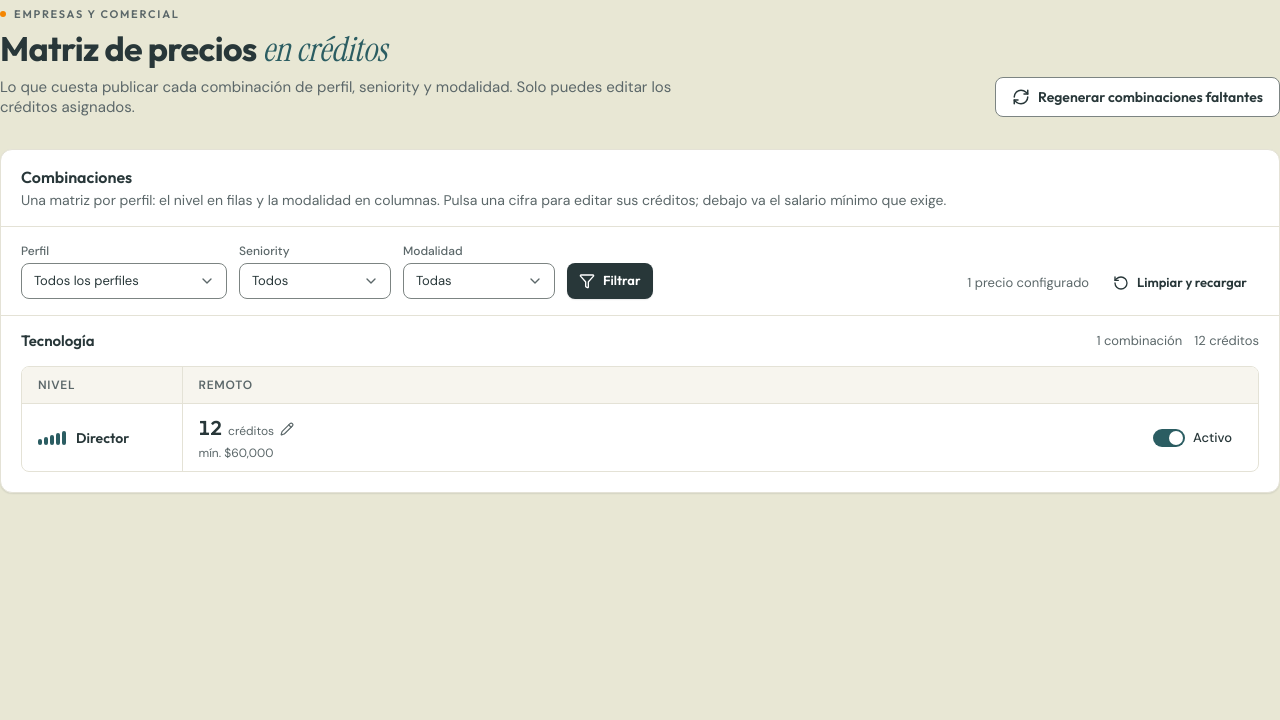
Scenario: /admin/pricing › ADM-022/067: créditos vacíos no se envían y el aviso sale DENTRO del modal
Click the button titled "Editar créditos" at [246, 429], box left=192, top=414, right=300, bottom=443
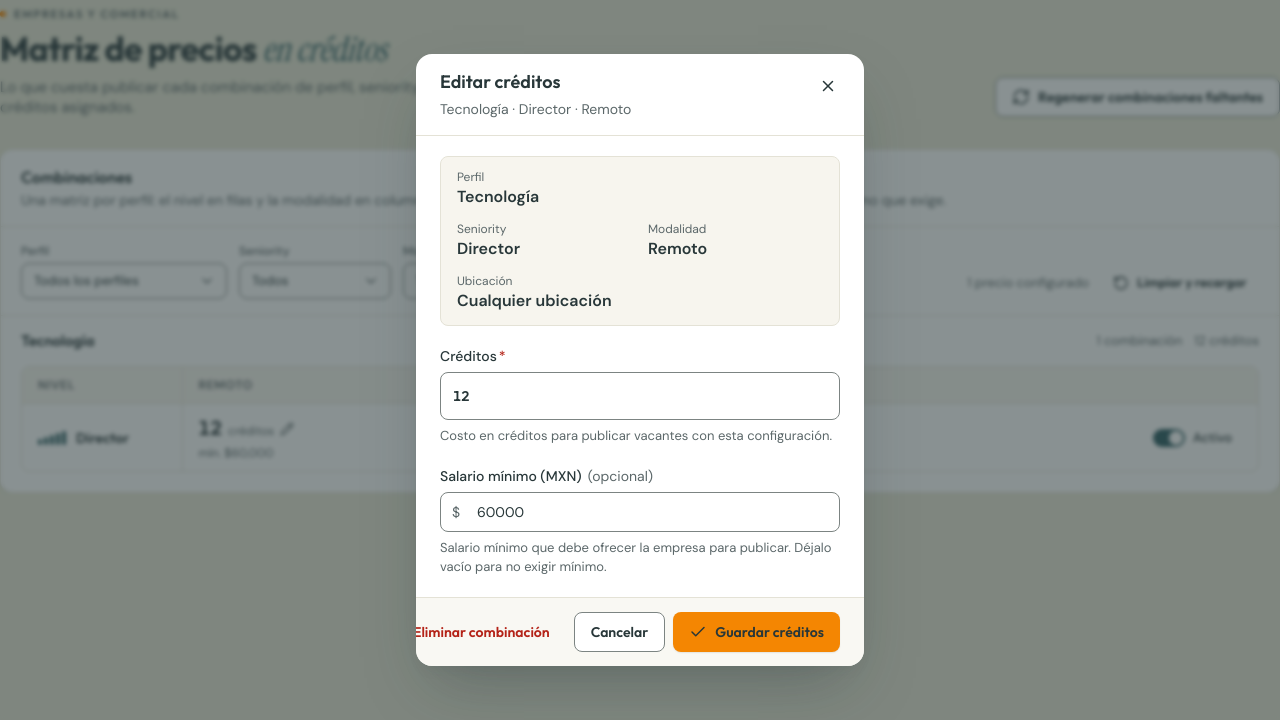
Clear the number field labelled "Créditos*" at [640, 396], box left=440, top=372, right=840, bottom=420
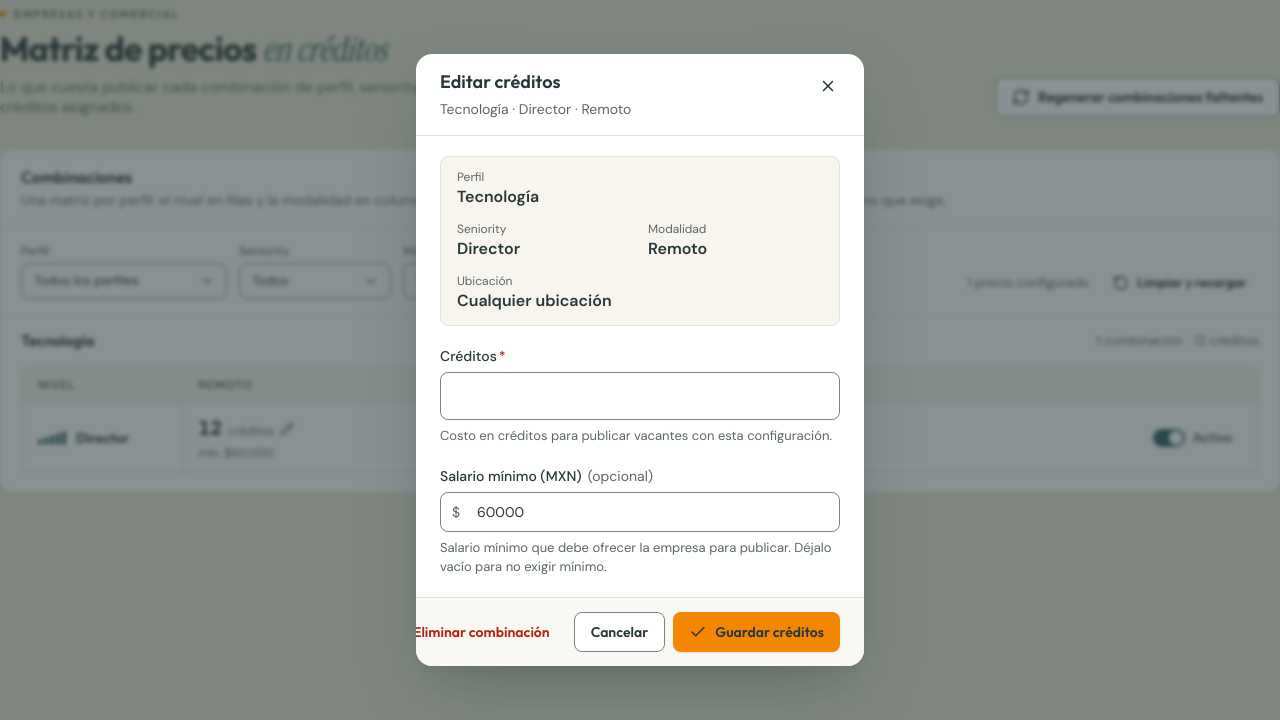
Submit the form, box left=440, top=156, right=840, bottom=577
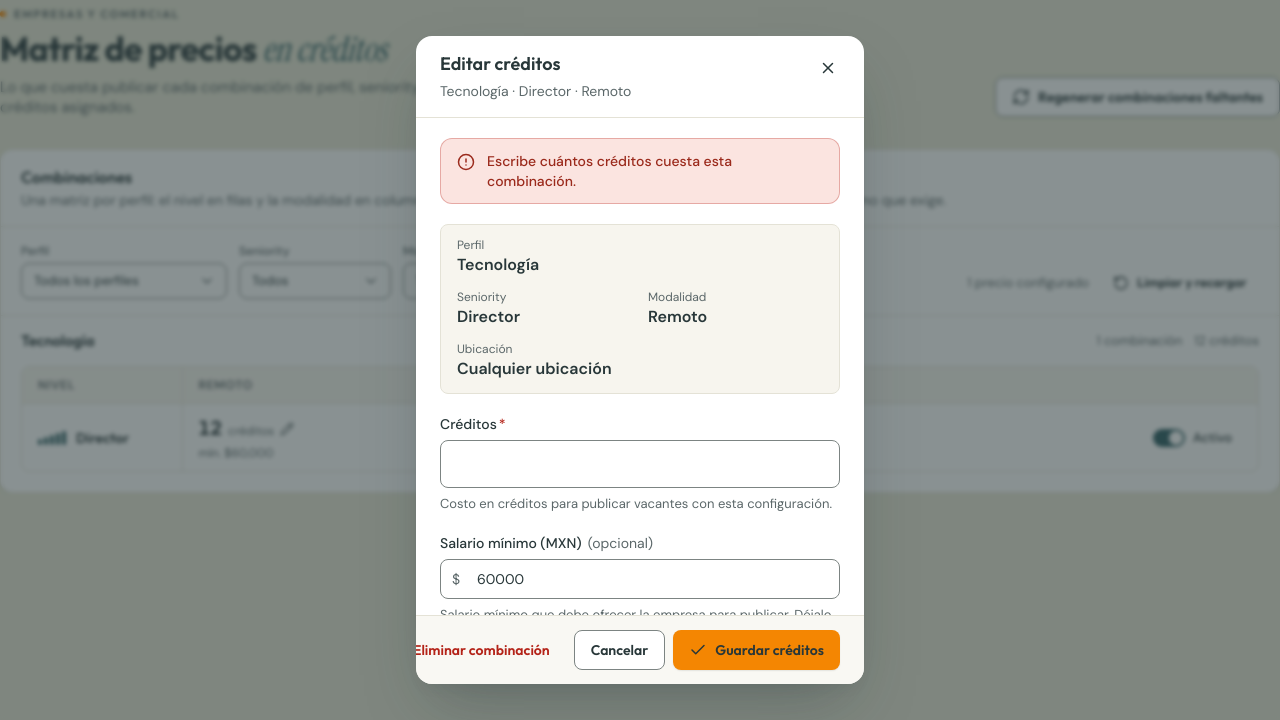
expect the message shows "Escribe cuántos créditos": met, box left=487, top=152, right=732, bottom=190
Type "0" into the number field labelled "Créditos*" at [640, 464], box left=440, top=440, right=840, bottom=488
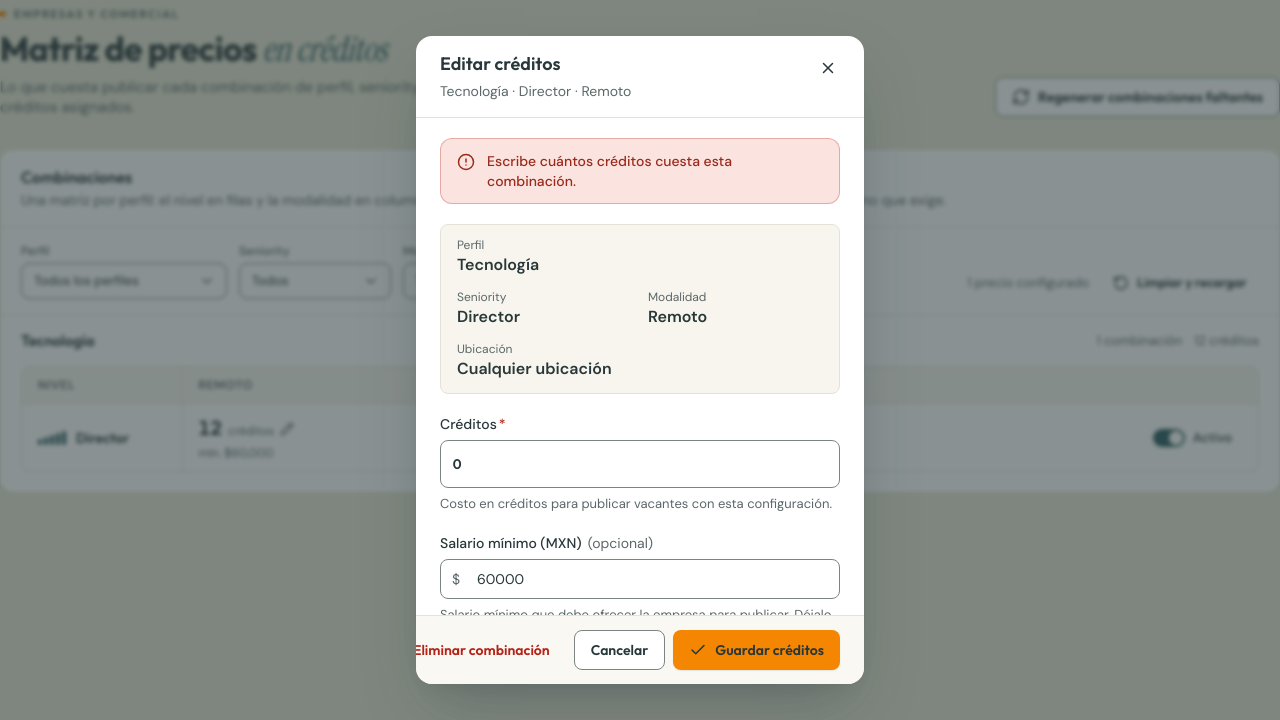
Submit the form, box left=440, top=138, right=840, bottom=644
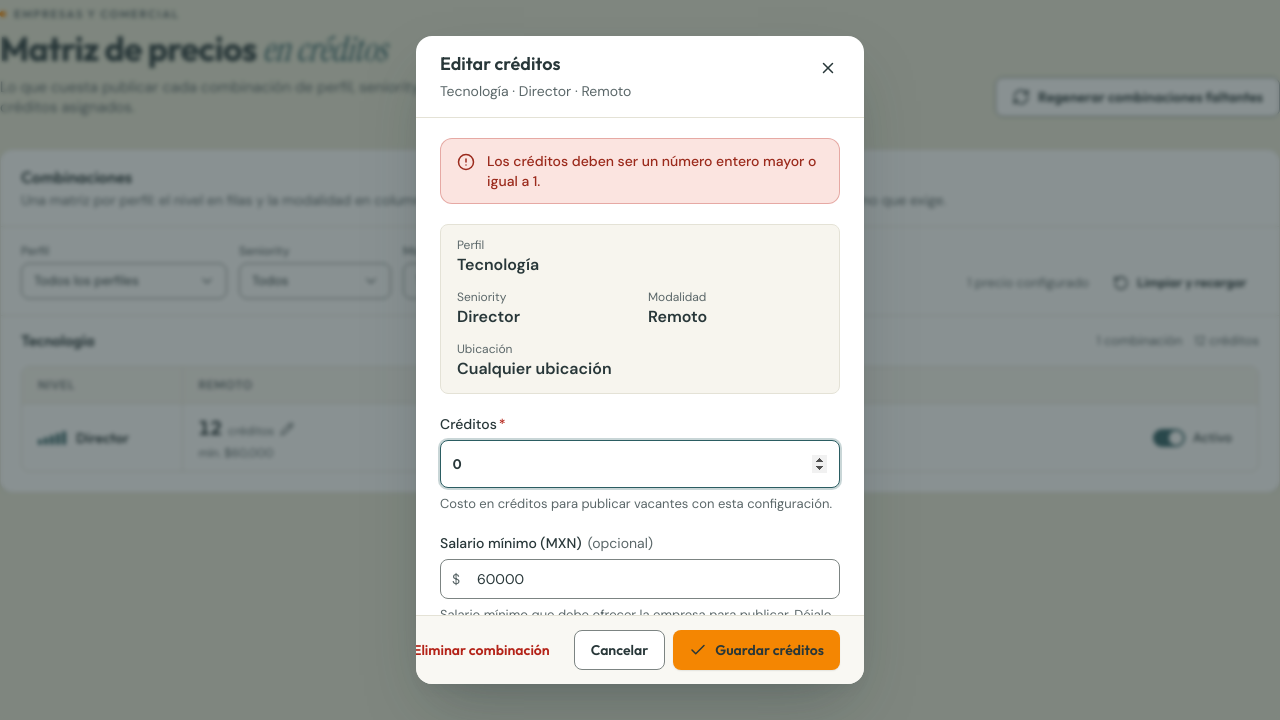
expect the message shows "mayor o igual a 1": met, box left=487, top=152, right=816, bottom=190
